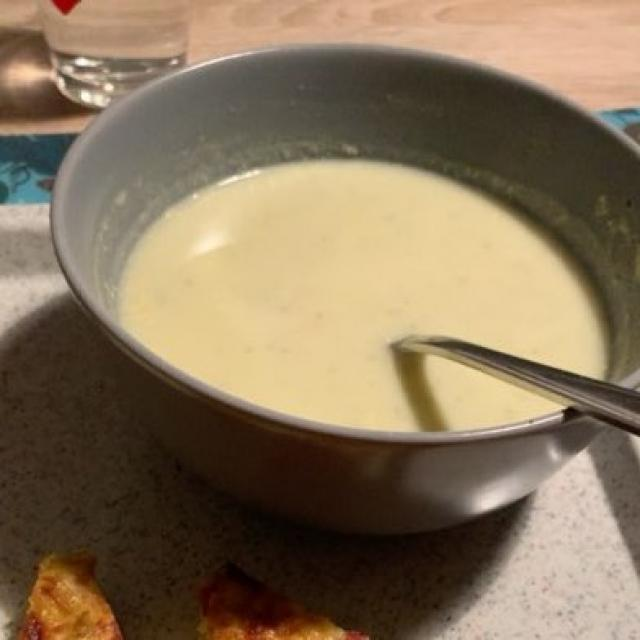soup: (123, 160, 597, 430)
